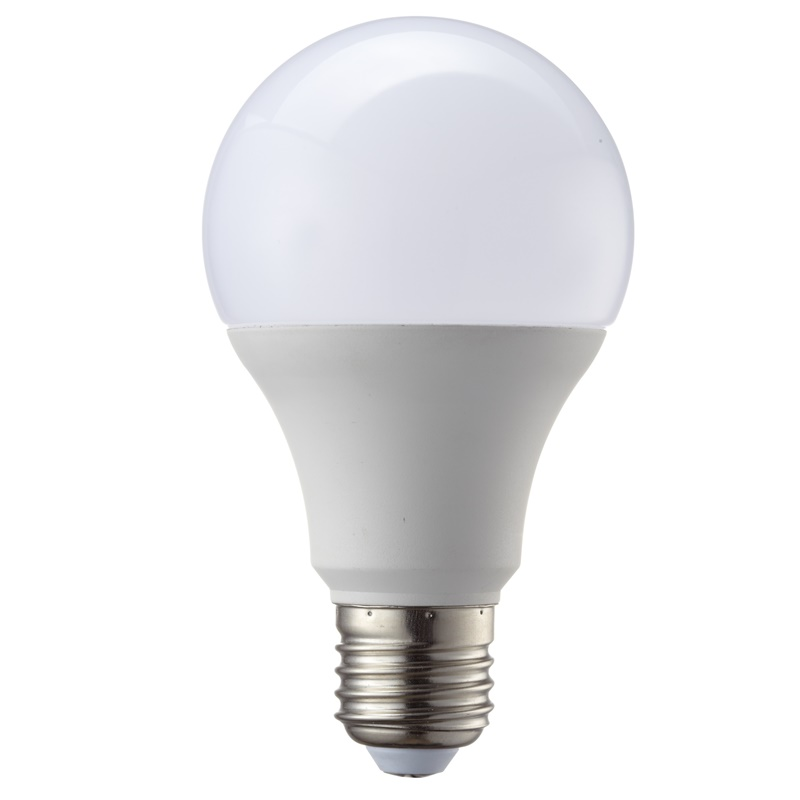Light_bulb: (195, 7, 643, 785)
